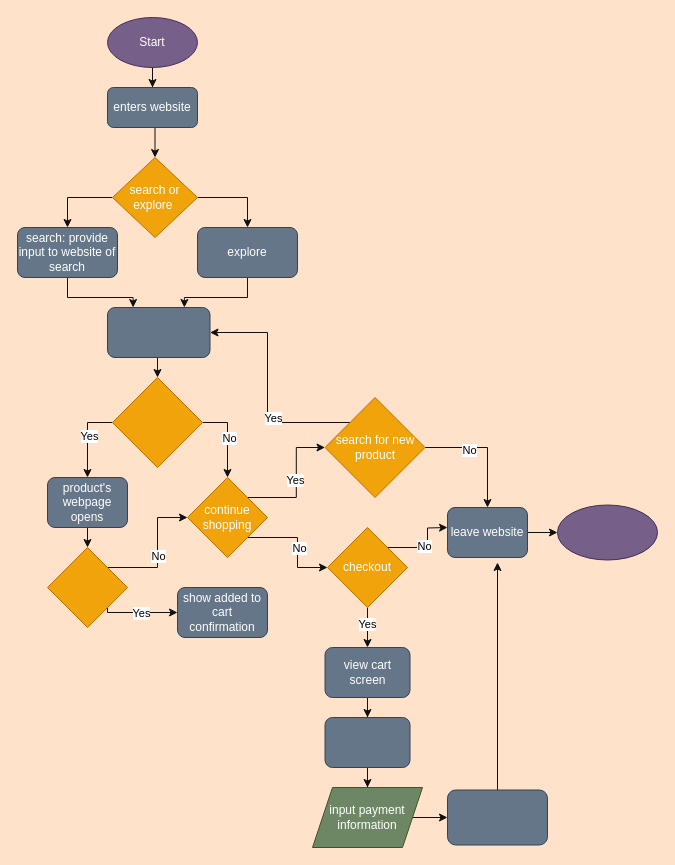
The diagram is 675 pixels wide and 865 high, and some of its shapes have lost their labels. The centre of each missing label's shape, as x and y in pixels:
add to cart: pixel 87 587
confirmation screen and email comfirmation: pixel 497 817
end: pixel 607 532
look over products: pixel 158 332
view payment screen: pixel 367 742
view specific product: pixel 157 422
